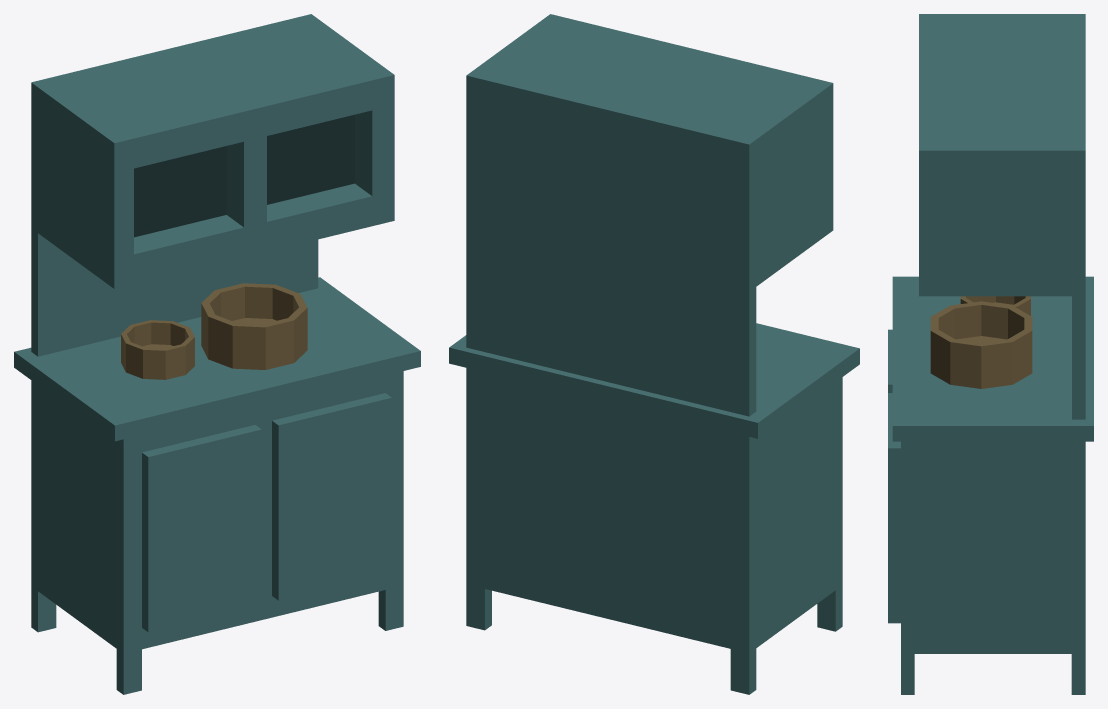
Rendered from Armoire.fbx.
3 views of the same model, side by side, from view 1: azimuth 30°, elevation 25°; view 2: azimuth 150°, elevation 25°; view 3: azimuth 270°, elevation 25° (orthographic).
Parts seen in each view (by area): view 1: polySurface125.001; view 2: polySurface125.001; view 3: polySurface125.001.
Boxes of the visible parts, bbox=[...] form: polySurface125.001: bbox=[14, 14, 420, 694]; polySurface125.001: bbox=[449, 14, 859, 694]; polySurface125.001: bbox=[888, 14, 1093, 694].
Size of the model in its own units: 258 by 439 by 151.
